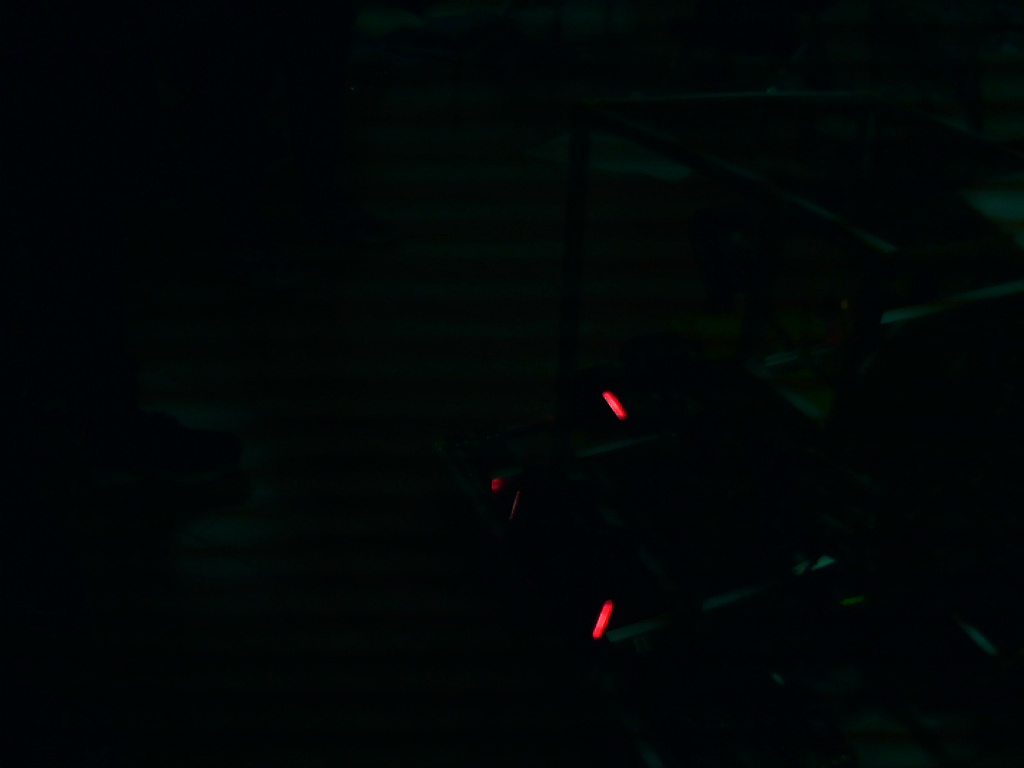lamp: (589, 597, 618, 641)
